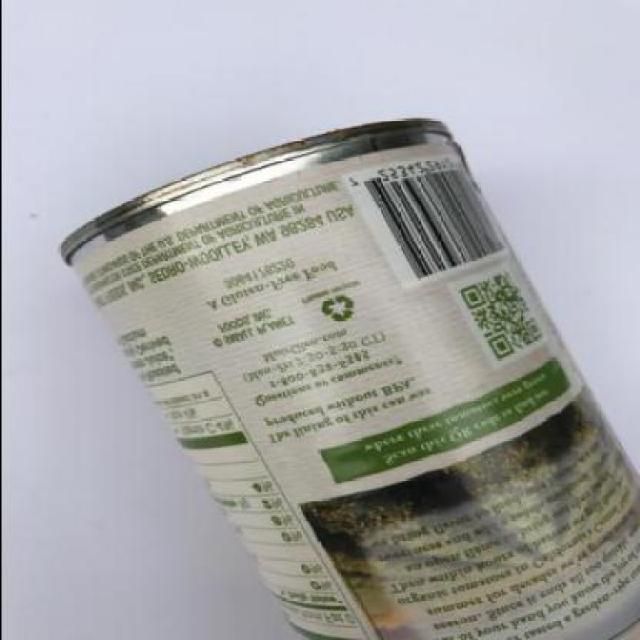METAL: (59, 118, 638, 639)
